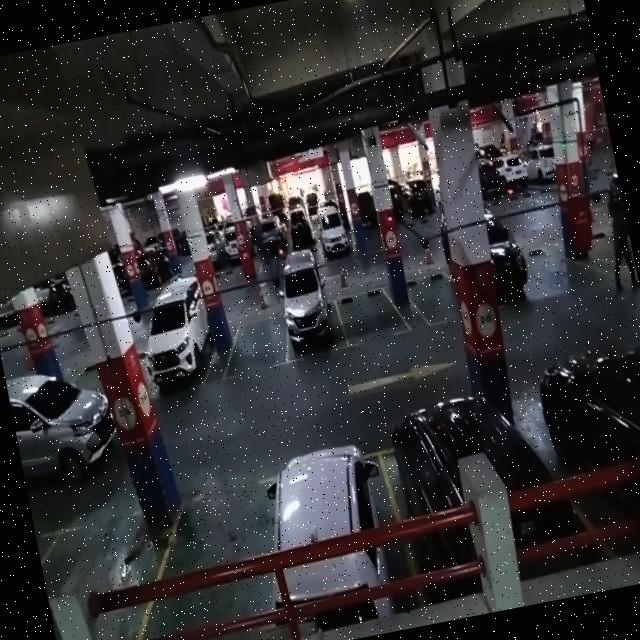empty: (145, 476, 298, 640), (334, 281, 412, 351), (215, 312, 292, 382), (405, 267, 461, 331)
occupied: (378, 416, 566, 600), (258, 442, 415, 640), (133, 284, 220, 398), (273, 266, 348, 364)
